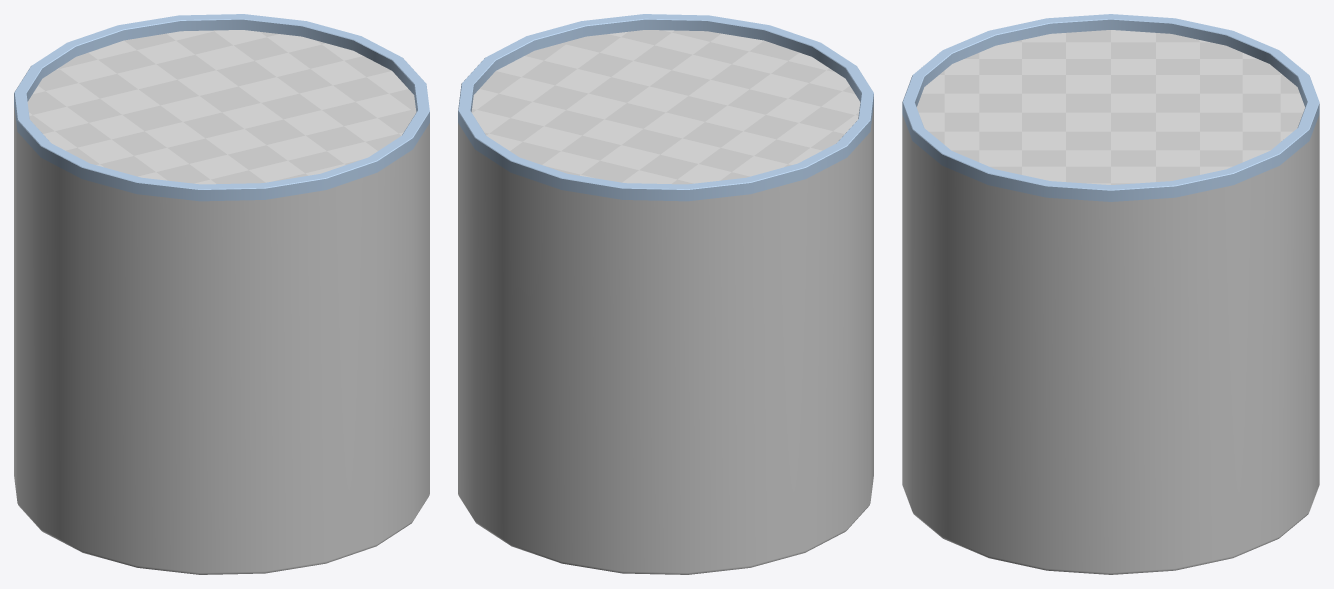
File: PlatformDisc (1).fbx
3 renders of one model, left to right at view 1: azimuth 30°, elevation 25°; view 2: azimuth 150°, elevation 25°; view 3: azimuth 270°, elevation 25°, orthographic.
Visible parts, largest first — view 1: PlatformDisc; view 2: PlatformDisc; view 3: PlatformDisc.
Boxes of the visible parts, bbox=[...] form: PlatformDisc: bbox=[14, 14, 429, 574]; PlatformDisc: bbox=[458, 14, 873, 574]; PlatformDisc: bbox=[902, 14, 1319, 574].
Bounding box in the file's own units: 23.8 × 24.3 × 23.8.
